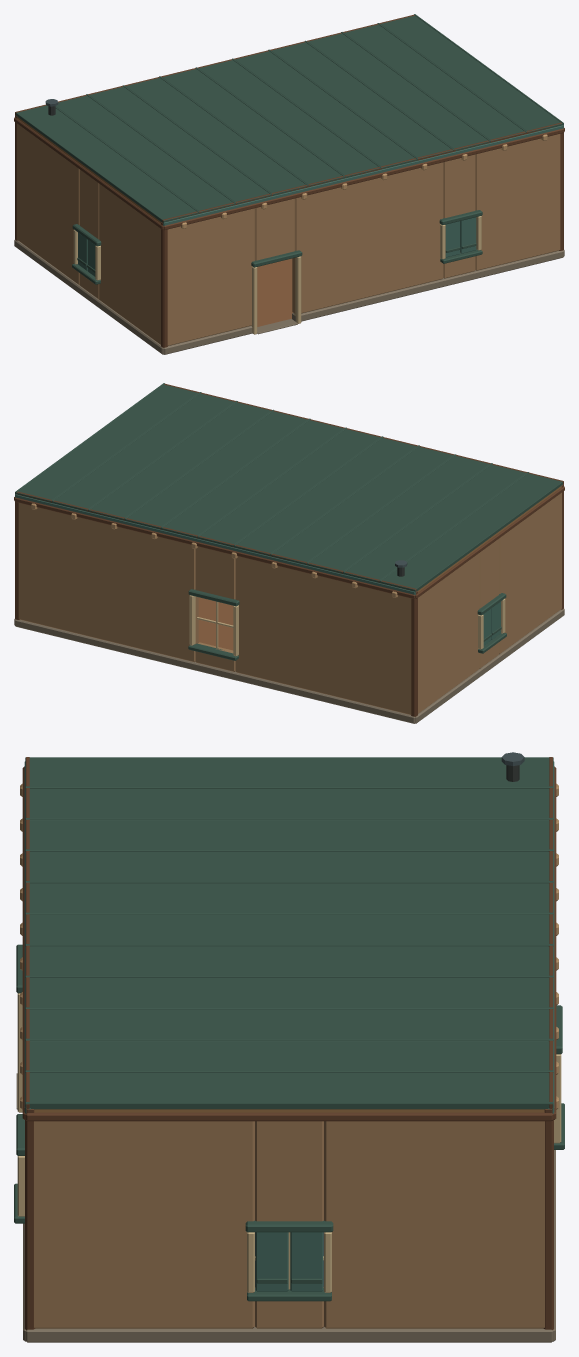
File: north.glb
3 renders of one model, top to bottom at view 1: azimuth 30°, elevation 25°; view 2: azimuth 150°, elevation 25°; view 3: azimuth 270°, elevation 25°, orthographic. The views are drawn at different scales.
Parts seen in each view (by area): view 1: Roof, WallS, WallW, Floor; view 2: Roof, WallN, WallW, Floor; view 3: Roof, WallE, WallS, WallN.
Part boxes in pixels (x1=…): Roof: x1=15, y1=14, x2=563, y2=225; WallS: x1=162, y1=125, x2=564, y2=354; WallW: x1=14, y1=115, x2=163, y2=354; Floor: x1=257, y1=258, x2=297, y2=334; Roof: x1=15, y1=383, x2=563, y2=594; WallN: x1=14, y1=494, x2=416, y2=723; WallW: x1=415, y1=484, x2=564, y2=723; Floor: x1=198, y1=597, x2=233, y2=650; Roof: x1=25, y1=757, x2=553, y2=1112; WallE: x1=25, y1=1109, x2=553, y2=1342; WallS: x1=14, y1=761, x2=30, y2=1341; WallN: x1=548, y1=761, x2=564, y2=1341.
Size of the model in its own units: 14.39 by 4.9 by 9.39.
